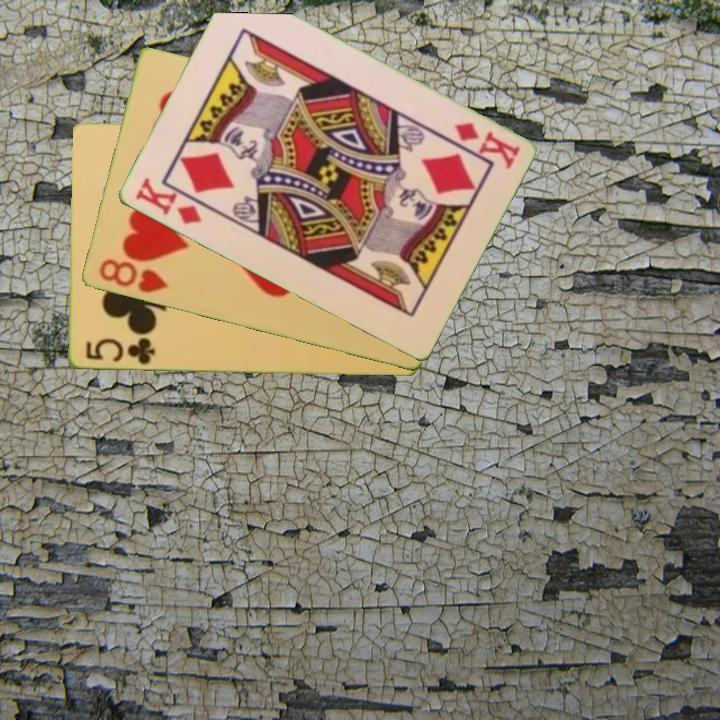5c: (82, 335, 157, 368)
8h: (95, 255, 171, 297)
Kd: (131, 174, 214, 228), (450, 118, 523, 172)
